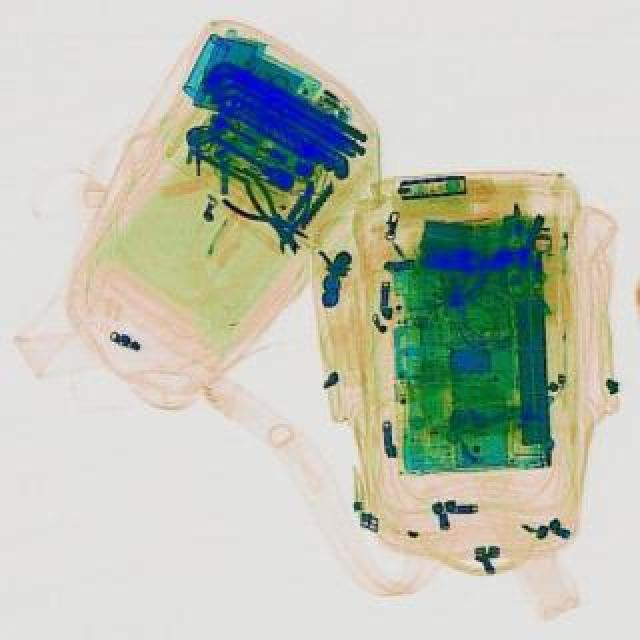wrench: (216, 166, 322, 260)
